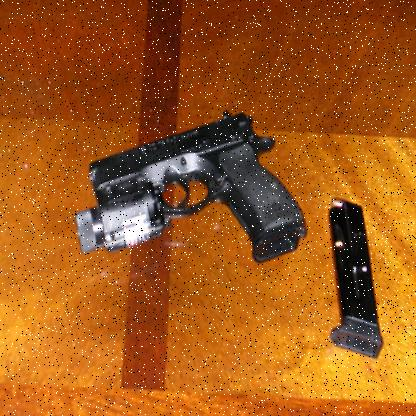pistol: (70, 109, 308, 263)
